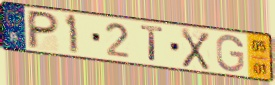1: (63, 13, 81, 56)
2: (103, 22, 131, 60)
G: (215, 34, 246, 74)
P: (26, 9, 61, 51)
T: (139, 23, 166, 64)
X: (180, 27, 211, 72)
